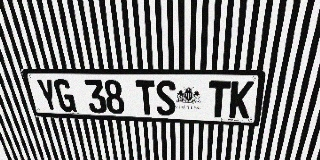3: (84, 79, 107, 113)
8: (103, 80, 125, 114)
G: (53, 79, 77, 112)
K: (228, 81, 254, 119)
S: (155, 80, 176, 116)
T: (208, 81, 231, 118), (135, 80, 156, 115)
Y: (35, 79, 60, 112)
